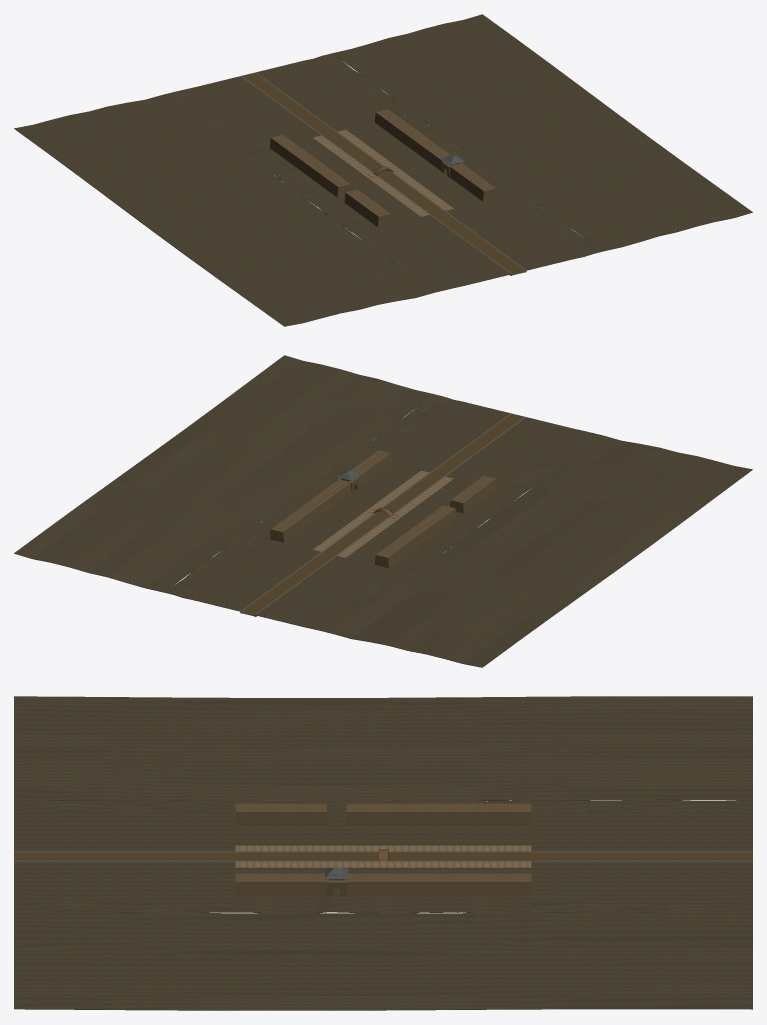
The model's file is scene_core.glb.
3 views of the same model, one above another, from view 1: azimuth 30°, elevation 25°; view 2: azimuth 150°, elevation 25°; view 3: azimuth 270°, elevation 25° (orthographic). The views are drawn at different scales.
Parts seen in each view (by area): view 1: 岸线_地坪, 河道_水面, city_wall_w, city_wall_e, 岸线_路, 河道_驳岸; view 2: 岸线_地坪, 河道_水面, city_wall_w, city_wall_e, 岸线_路, 河道_驳岸; view 3: 岸线_地坪, city_wall_w, city_wall_e, 河道_水面, 岸线_路, 河道_驳岸.
Boxes of the visible parts, x1,y1,x2,y2 form: 岸线_地坪: (14, 14, 752, 326); 河道_水面: (242, 72, 524, 273); city_wall_w: (269, 135, 392, 227); city_wall_e: (374, 109, 496, 201); 岸线_路: (313, 129, 453, 216); 河道_驳岸: (241, 72, 526, 275); 岸线_地坪: (14, 355, 752, 667); 河道_水面: (242, 413, 524, 614); city_wall_w: (374, 476, 497, 568); city_wall_e: (270, 450, 392, 542); 岸线_路: (313, 470, 453, 557); 河道_驳岸: (240, 413, 525, 616); 岸线_地坪: (14, 696, 752, 1010); city_wall_w: (235, 803, 531, 826); city_wall_e: (235, 873, 531, 896); 河道_水面: (14, 852, 752, 860); 岸线_路: (235, 845, 531, 867); 河道_驳岸: (14, 851, 752, 861).
Size of the model in its own units: 600 by 25.66 by 600.
Materials: 11 (9 with a texture image).
